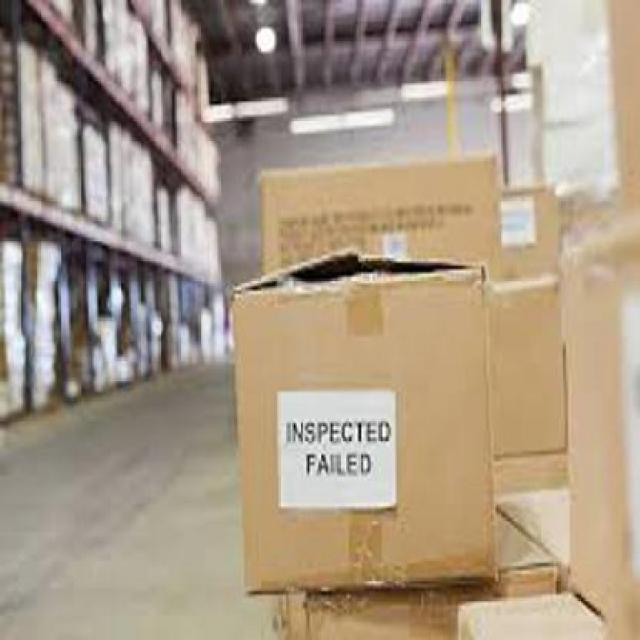defect: (220, 245, 508, 603)
